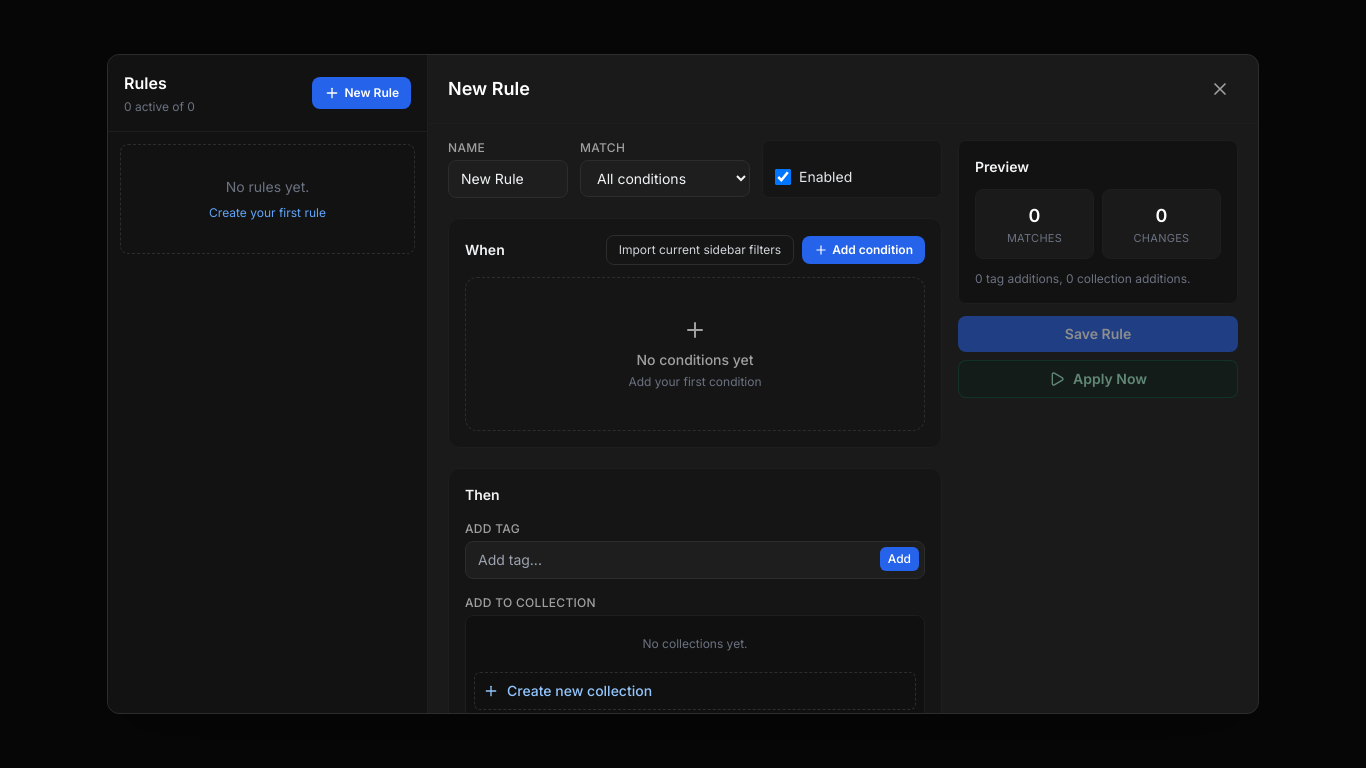
AutomationRulesModal › opens a clean guided editor for a new rule
The width and height of the screenshot is (1366, 768).
Expected: the heading "New Rule" is shown, [448,75,530,103]
Expected: the text "No conditions yet" is shown, [636,350,754,370]
Click the button "No conditions yet Add your first condition" at [695, 354], box [465,277,925,431]
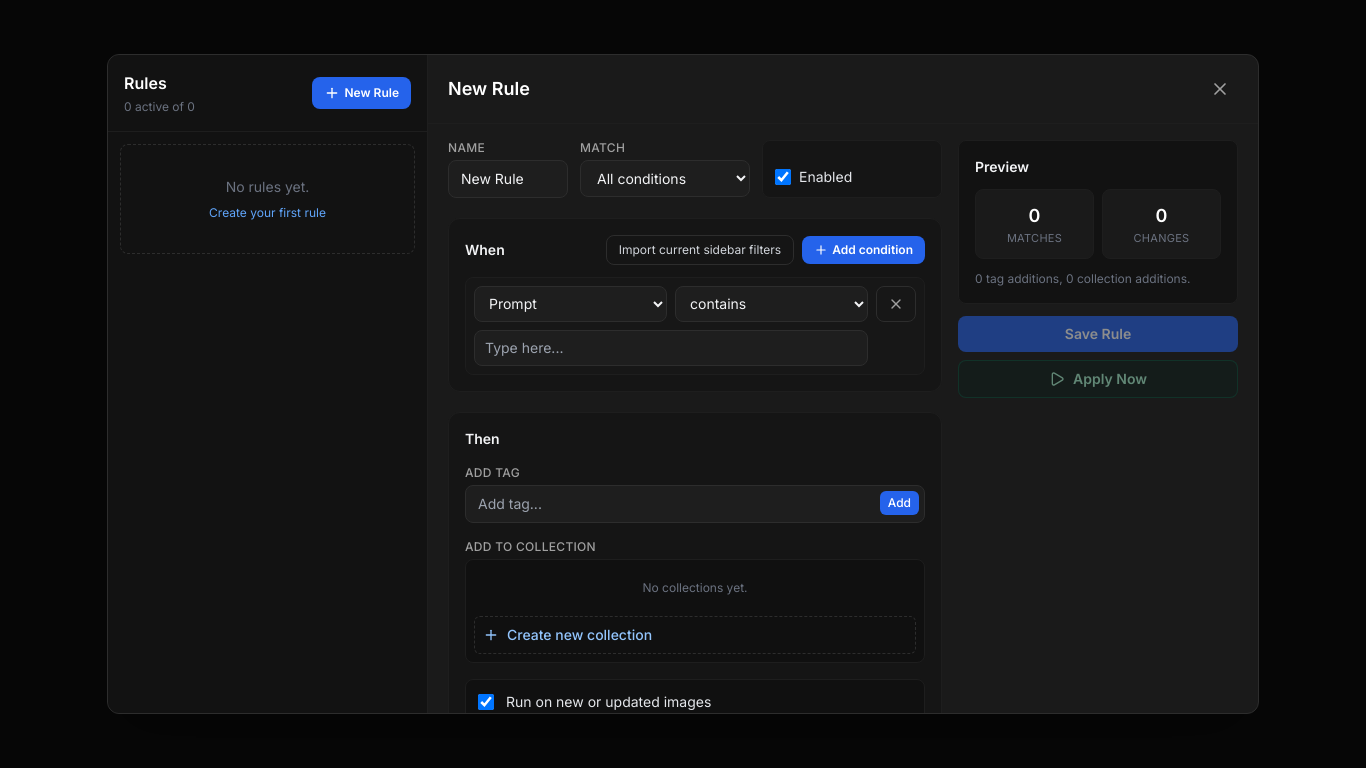
Now the dropdown named "Condition field" shows "Prompt", box [474,286,667,322]
Now the dropdown named "Condition operator" shows "contains", box [675,286,868,322]
Now the field named "Prompt value" is shown, box [474,330,868,366]
